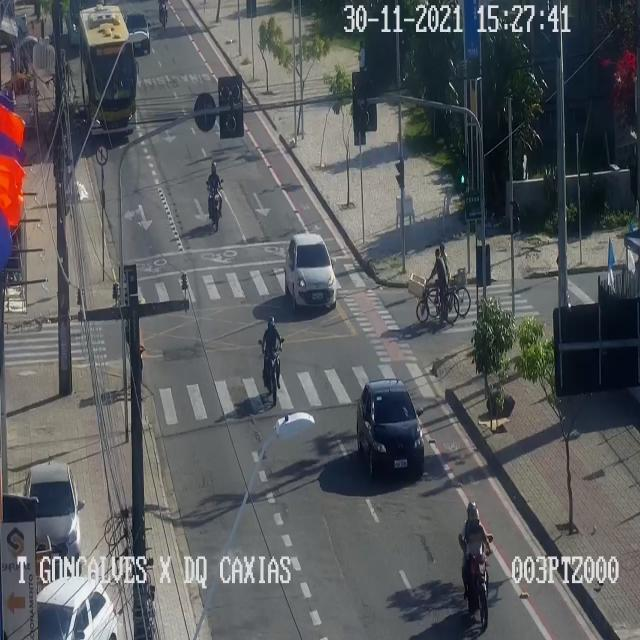Bus: (80, 5, 139, 135)
Car: (356, 378, 425, 483), (23, 460, 82, 560), (38, 573, 122, 639), (284, 233, 336, 312), (125, 12, 150, 56)
Motorcycle: (458, 502, 494, 630), (258, 315, 283, 407), (206, 160, 224, 234), (157, 0, 169, 35)
